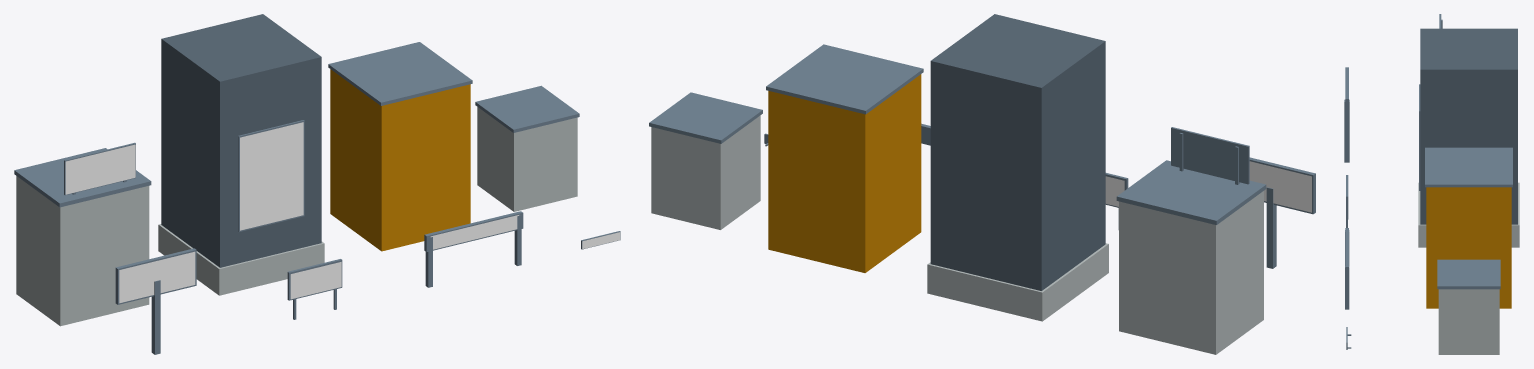
The model's file is roadside_asset_kit.glb.
3 renders of one model, left to right at view 1: azimuth 30°, elevation 25°; view 2: azimuth 150°, elevation 25°; view 3: azimuth 270°, elevation 25°, orthographic. The views are drawn at different scales.
Parts seen in each view (by area): view 1: Bldg_Tower_WallAd_Struct, Bldg_Filler_Med_Struct, Bldg_Rooftop_Ad_Struct, Bldg_Filler_Small_Struct, Ad_Screen_Bldg_Tower_WallAd, Ad_Screen_Billboard_Highway_Mega_Front, Ad_Screen_Bldg_Rooftop_Ad, Billboard_Highway_Mega_Struct, Ad_Screen_Billboard_Roadside_Dual_Front, Track_Sponsor_Gantry_Struct, Ad_Screen_Track_Sponsor_Gantry, Billboard_Roadside_Dual_Struct; view 2: Bldg_Tower_WallAd_Struct, Bldg_Filler_Med_Struct, Bldg_Rooftop_Ad_Struct, Bldg_Filler_Small_Struct, Ad_Screen_Billboard_Highway_Mega_Back, Billboard_Highway_Mega_Struct; view 3: Bldg_Tower_WallAd_Struct, Bldg_Filler_Med_Struct, Bldg_Filler_Small_Struct, Billboard_Highway_Mega_Struct, Track_Sponsor_Gantry_Struct, Billboard_Roadside_Dual_Struct.
Part boxes in pixels (box(x1,y1,x2,y2)): Bldg_Tower_WallAd_Struct: box(158, 14, 324, 295); Bldg_Filler_Med_Struct: box(328, 42, 472, 251); Bldg_Rooftop_Ad_Struct: box(14, 142, 151, 326); Bldg_Filler_Small_Struct: box(475, 85, 579, 211); Ad_Screen_Bldg_Tower_WallAd: box(240, 122, 303, 230); Ad_Screen_Billboard_Highway_Mega_Front: box(119, 251, 195, 303); Ad_Screen_Bldg_Rooftop_Ad: box(65, 144, 135, 194); Billboard_Highway_Mega_Struct: box(115, 248, 196, 354); Ad_Screen_Billboard_Roadside_Dual_Front: box(290, 262, 341, 299); Track_Sponsor_Gantry_Struct: box(424, 211, 523, 287); Ad_Screen_Track_Sponsor_Gantry: box(430, 215, 519, 249); Billboard_Roadside_Dual_Struct: box(287, 259, 342, 319); Bldg_Tower_WallAd_Struct: box(927, 14, 1108, 321); Bldg_Filler_Med_Struct: box(766, 44, 923, 272); Bldg_Rooftop_Ad_Struct: box(1116, 127, 1266, 354); Bldg_Filler_Small_Struct: box(649, 92, 762, 229); Ad_Screen_Billboard_Highway_Mega_Back: box(1249, 161, 1311, 212); Billboard_Highway_Mega_Struct: box(1249, 157, 1315, 268); Bldg_Tower_WallAd_Struct: box(1418, 28, 1519, 247); Bldg_Filler_Med_Struct: box(1425, 147, 1512, 308); Bldg_Filler_Small_Struct: box(1437, 259, 1500, 354); Billboard_Highway_Mega_Struct: box(1344, 67, 1349, 162); Track_Sponsor_Gantry_Struct: box(1345, 228, 1349, 309); Billboard_Roadside_Dual_Struct: box(1346, 175, 1348, 227).
Size of the model in its own units: 82.4 by 32 by 28.75.
